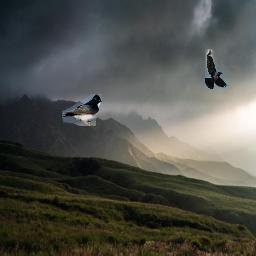Crow: (205, 49, 229, 89)
Swallow: (62, 94, 102, 126)
